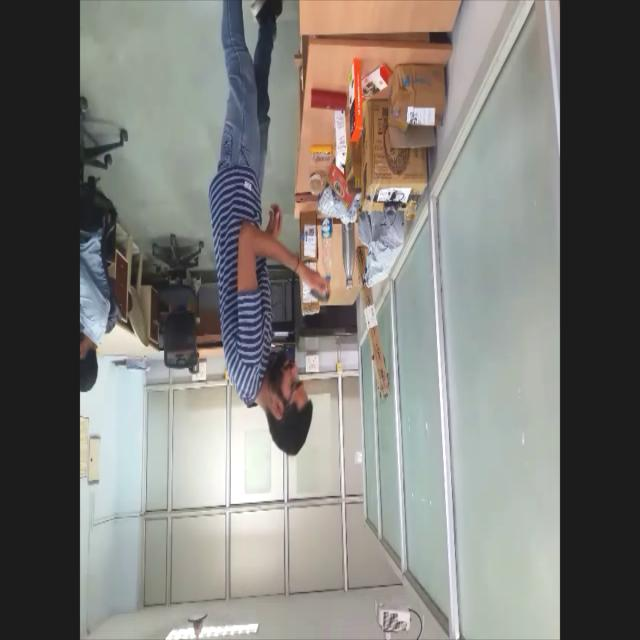normal: (204, 0, 338, 456)
